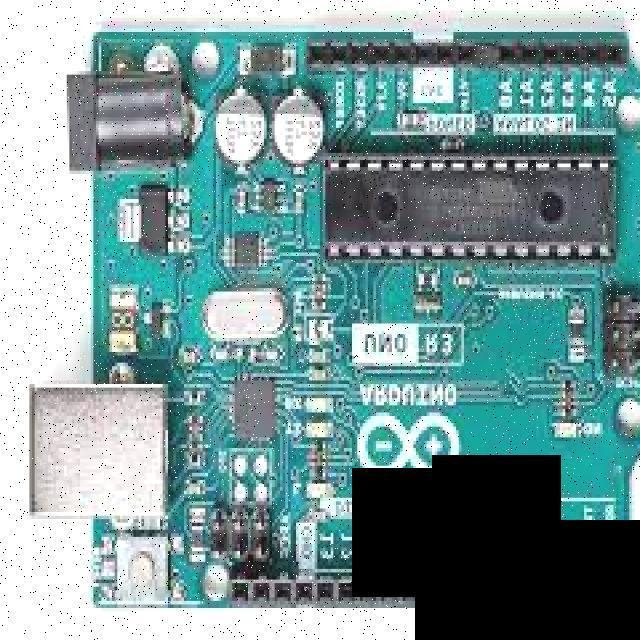arduino: (88, 28, 640, 607)
